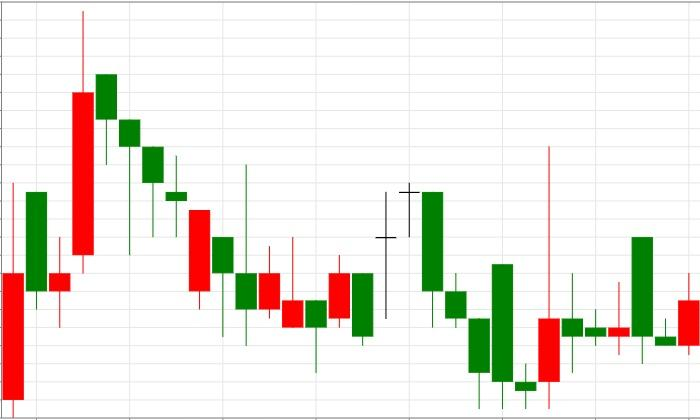morning_star_rise: (375, 146, 560, 409)
three_black_crows_fall: (2, 11, 164, 418)
